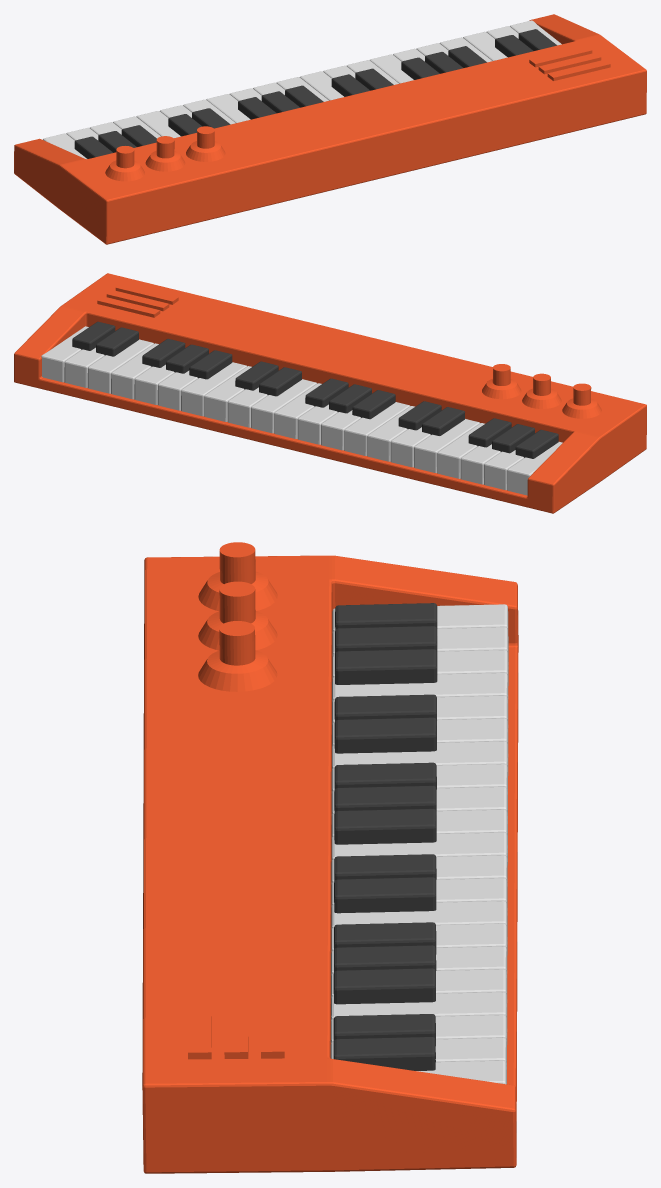
The model's file is music-keyboard.glb.
3 views of the same model, one above another, from view 1: azimuth 30°, elevation 25°; view 2: azimuth 150°, elevation 25°; view 3: azimuth 270°, elevation 25° (orthographic). The views are drawn at different scales.
Visible parts, largest first — view 1: Plane.007; view 2: Plane.007; view 3: Plane.007.
Part boxes in pixels (x1=…): Plane.007: x1=14, y1=14, x2=646, y2=244; Plane.007: x1=14, y1=273, x2=646, y2=513; Plane.007: x1=142, y1=542, x2=518, y2=1173.
Size of the model in its own units: 1.39 by 0.17 by 0.4173.
